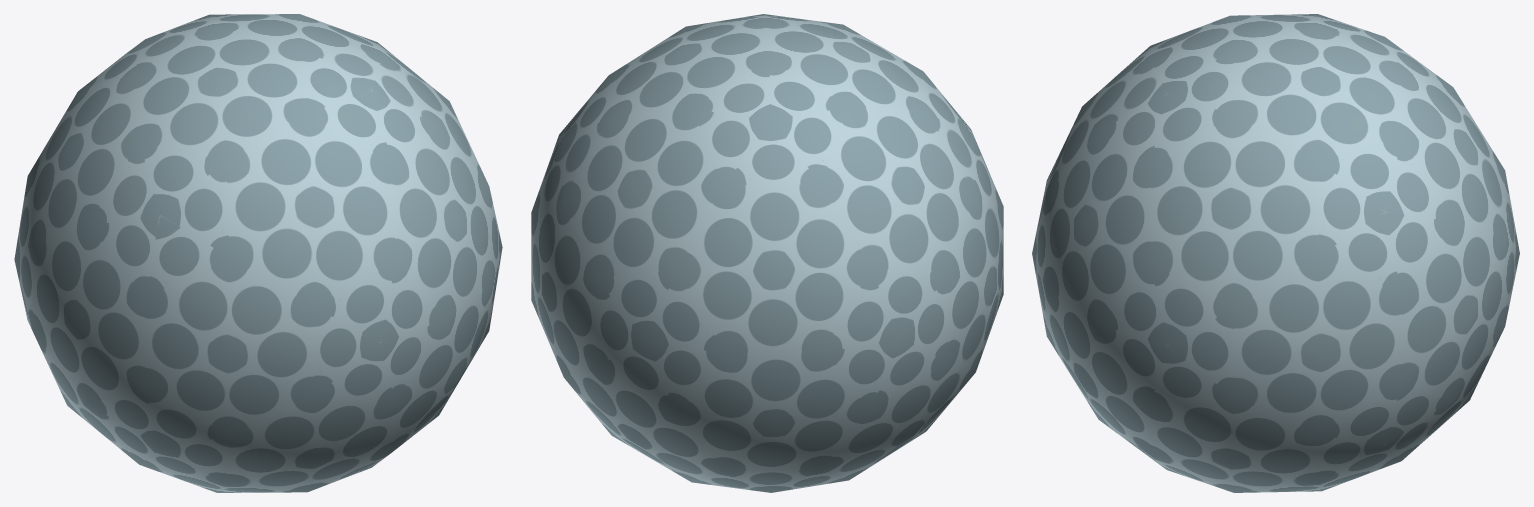
The model's file is GolfBall.fbx.
The picture shows the model from 3 angles, left to right: view 1: azimuth 30°, elevation 25°; view 2: azimuth 150°, elevation 25°; view 3: azimuth 270°, elevation 25°; orthographic projection.
Parts seen in each view (by area): view 1: GolfBall; view 2: GolfBall; view 3: GolfBall.
Boxes of the visible parts, x1,y1,x2,y2 form: GolfBall: [14, 14, 502, 492]; GolfBall: [531, 14, 1003, 492]; GolfBall: [1032, 14, 1519, 492].
Size of the model in its own units: 1.57 by 1.57 by 1.6.
